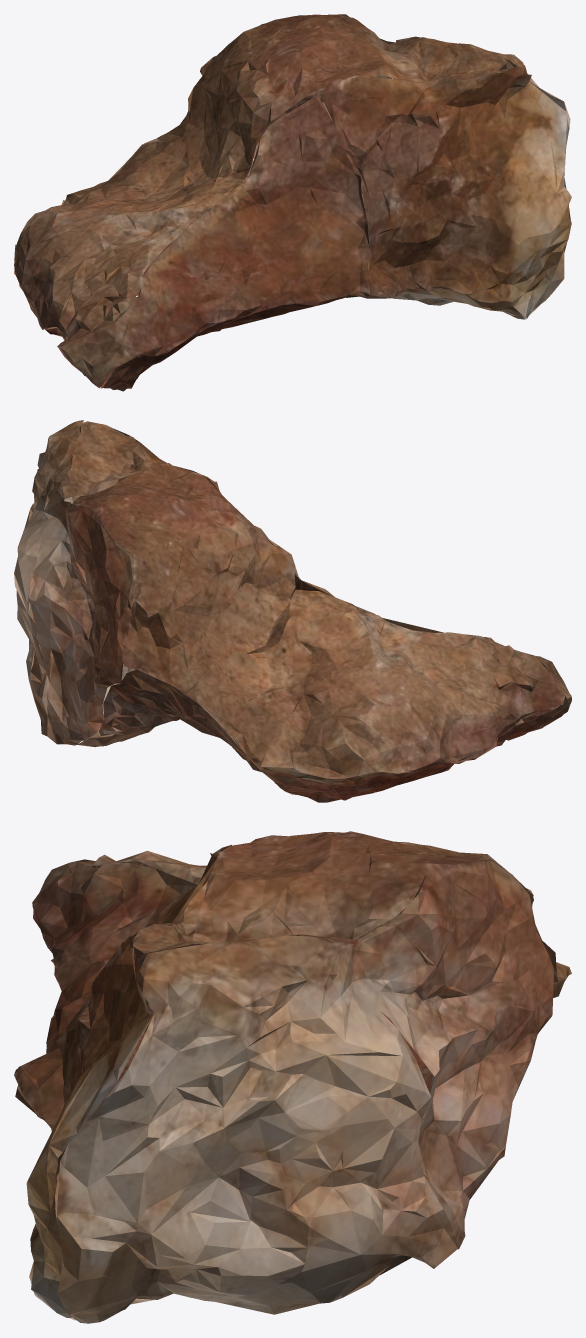
File: Stone.obj
3 views of the same model, one above another, from view 1: azimuth 30°, elevation 25°; view 2: azimuth 150°, elevation 25°; view 3: azimuth 270°, elevation 25° (orthographic). The views are drawn at different scales.
Parts seen in each view (by area): view 1: Plane_001; view 2: Plane_001; view 3: Plane_001.
Part boxes in pixels (x1=…): Plane_001: x1=14, y1=14, x2=571, y2=391; Plane_001: x1=14, y1=420, x2=571, y2=802; Plane_001: x1=14, y1=831, x2=571, y2=1323.
Bounding box in the file's own units: 0.1464 × 0.0712 × 0.0885.
1 material, 1 textured.
